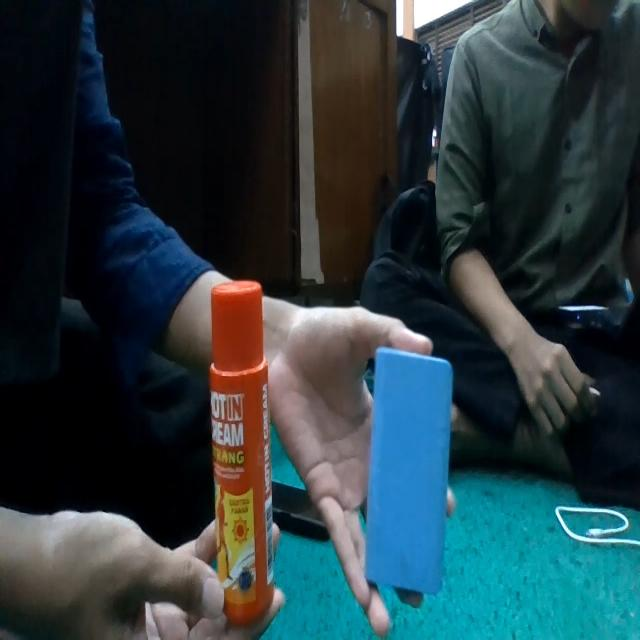Boncabe: (210, 282, 274, 624)
Powerbank: (366, 348, 452, 601)
